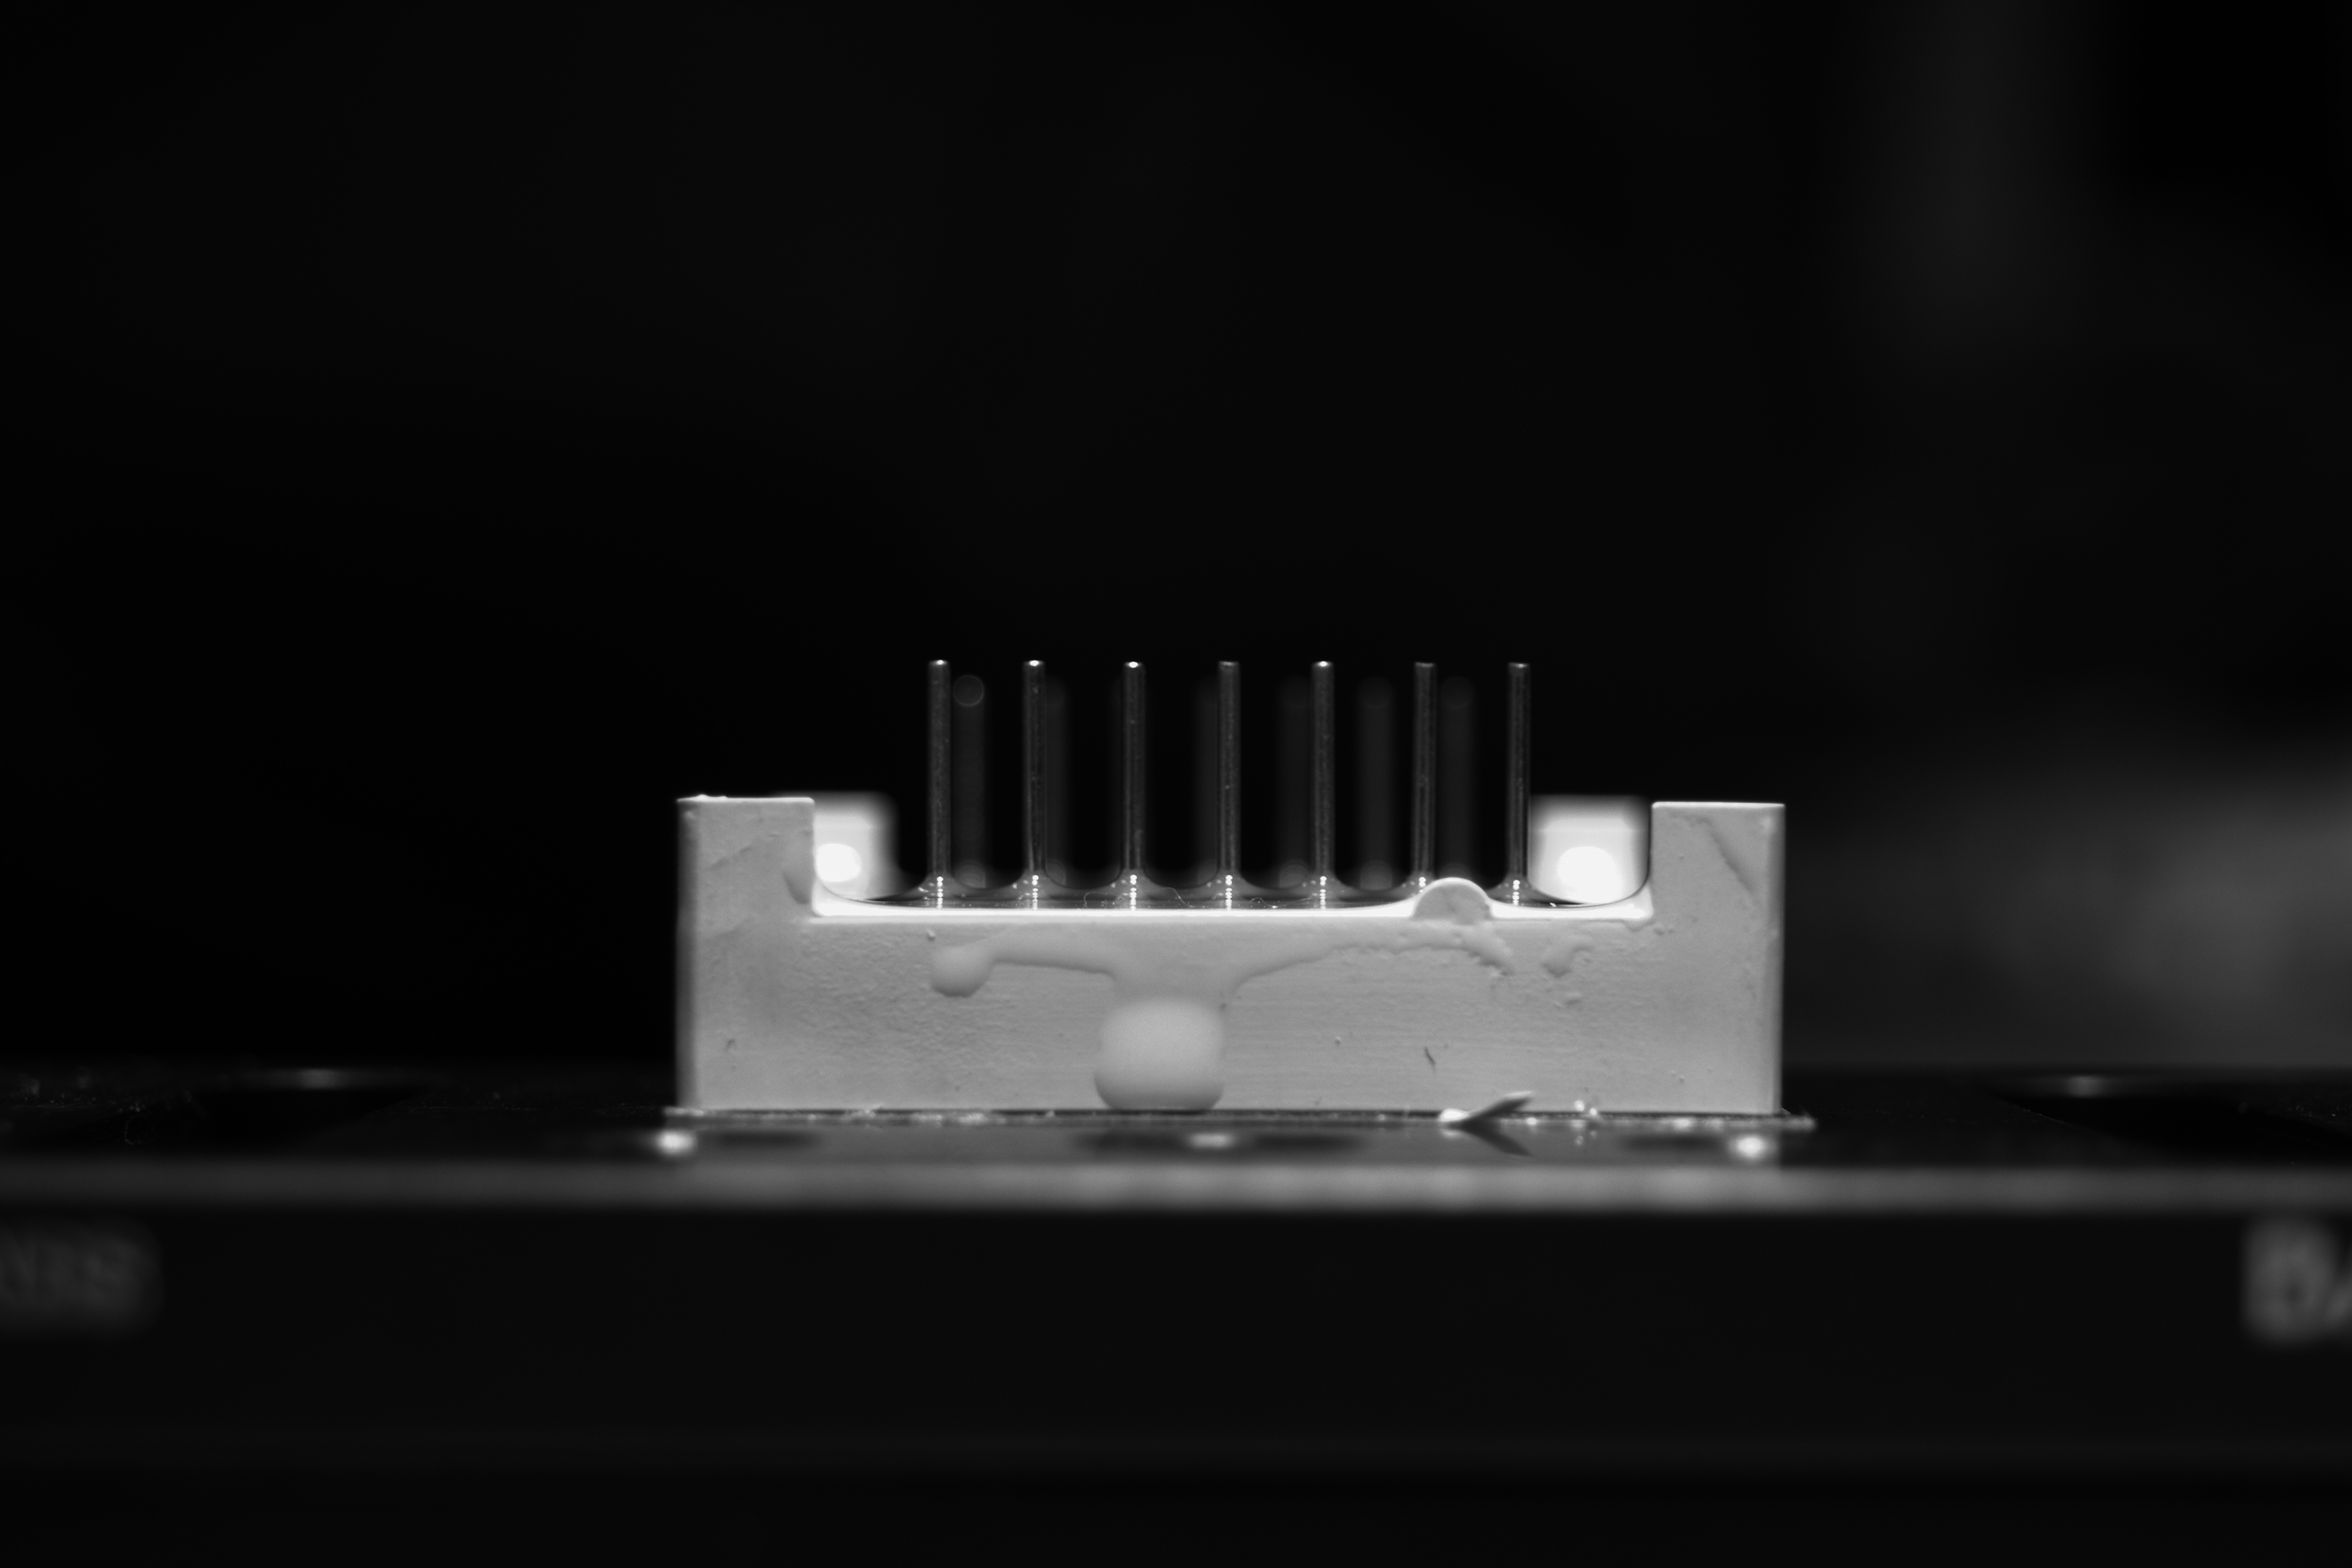glue: (927, 917, 1596, 1120), (772, 826, 808, 919)
